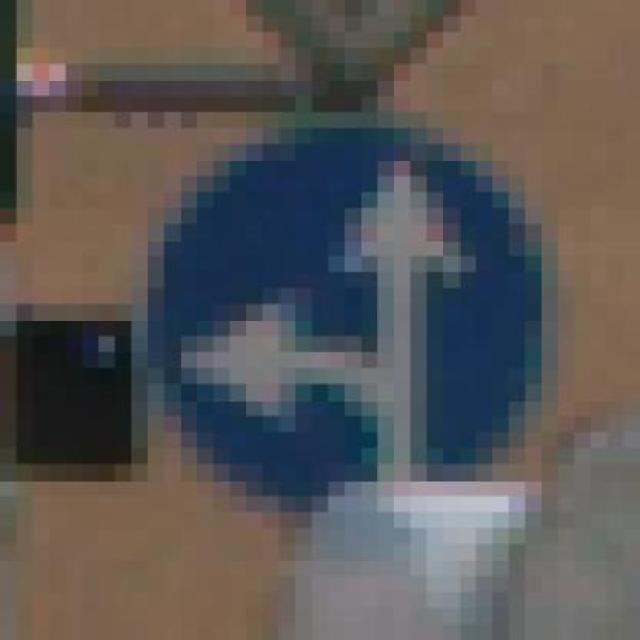Go straight or turn left: (98, 112, 574, 512)
